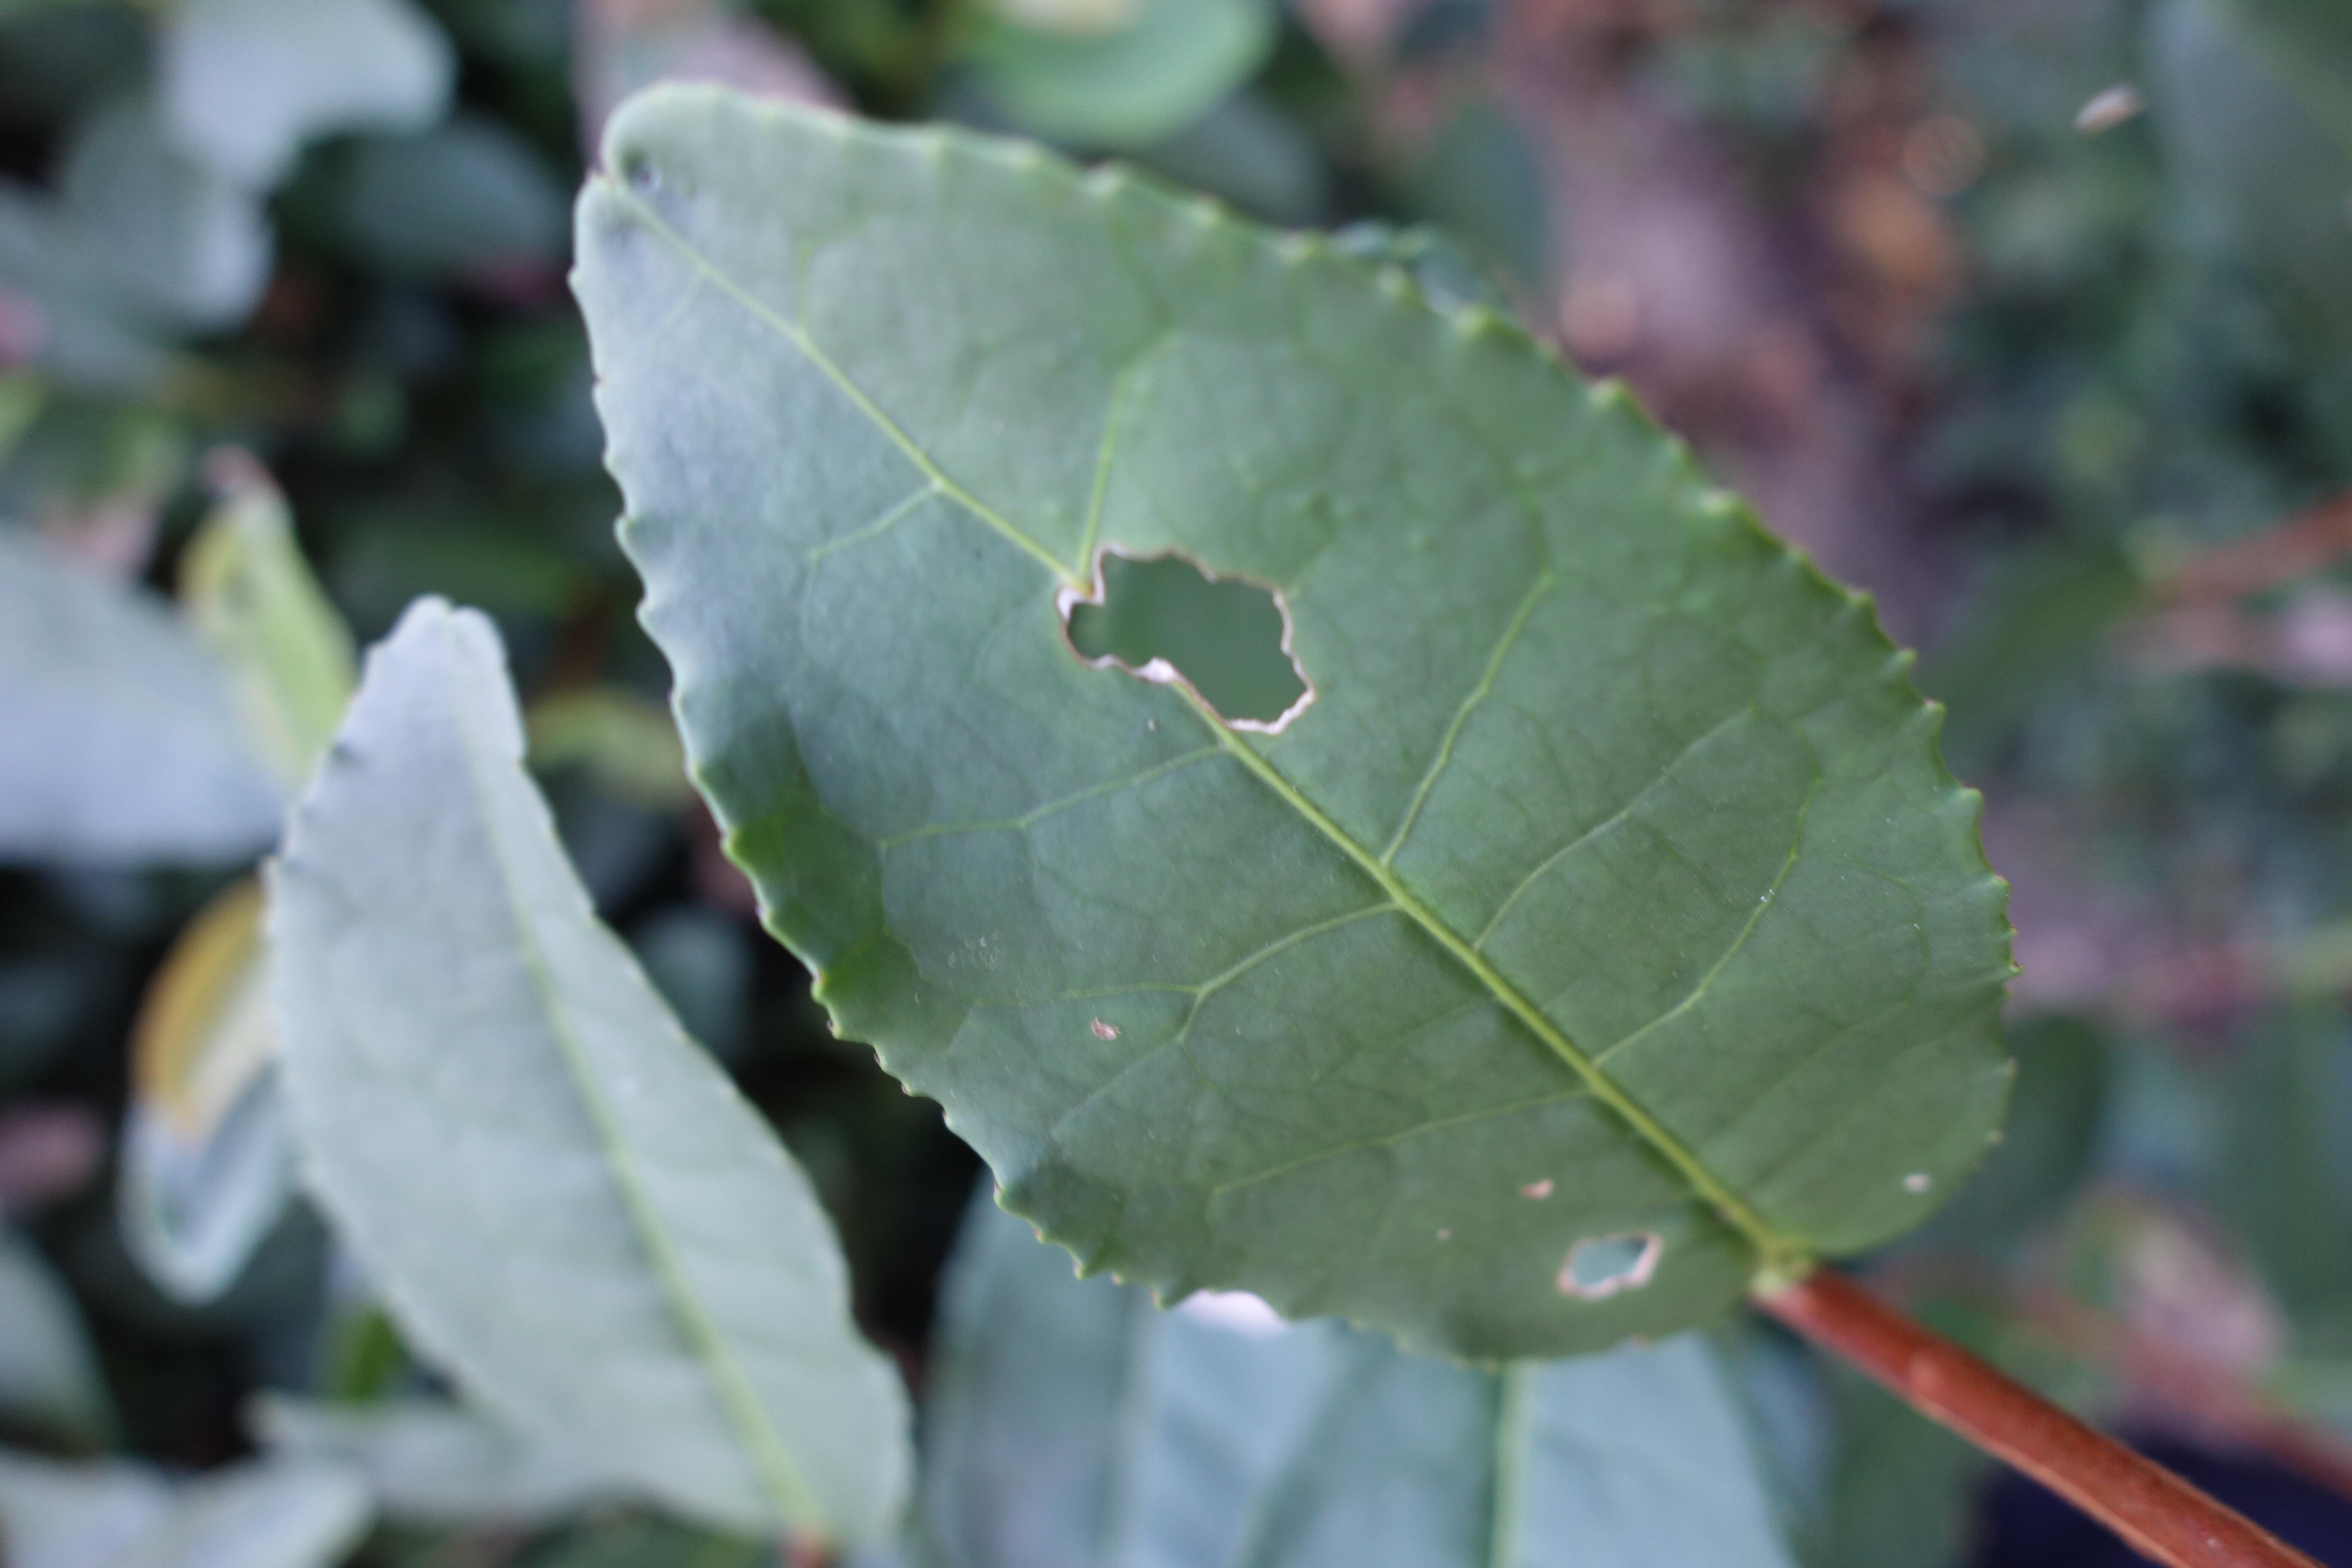chihuo_high: (558, 80, 2025, 1356)
